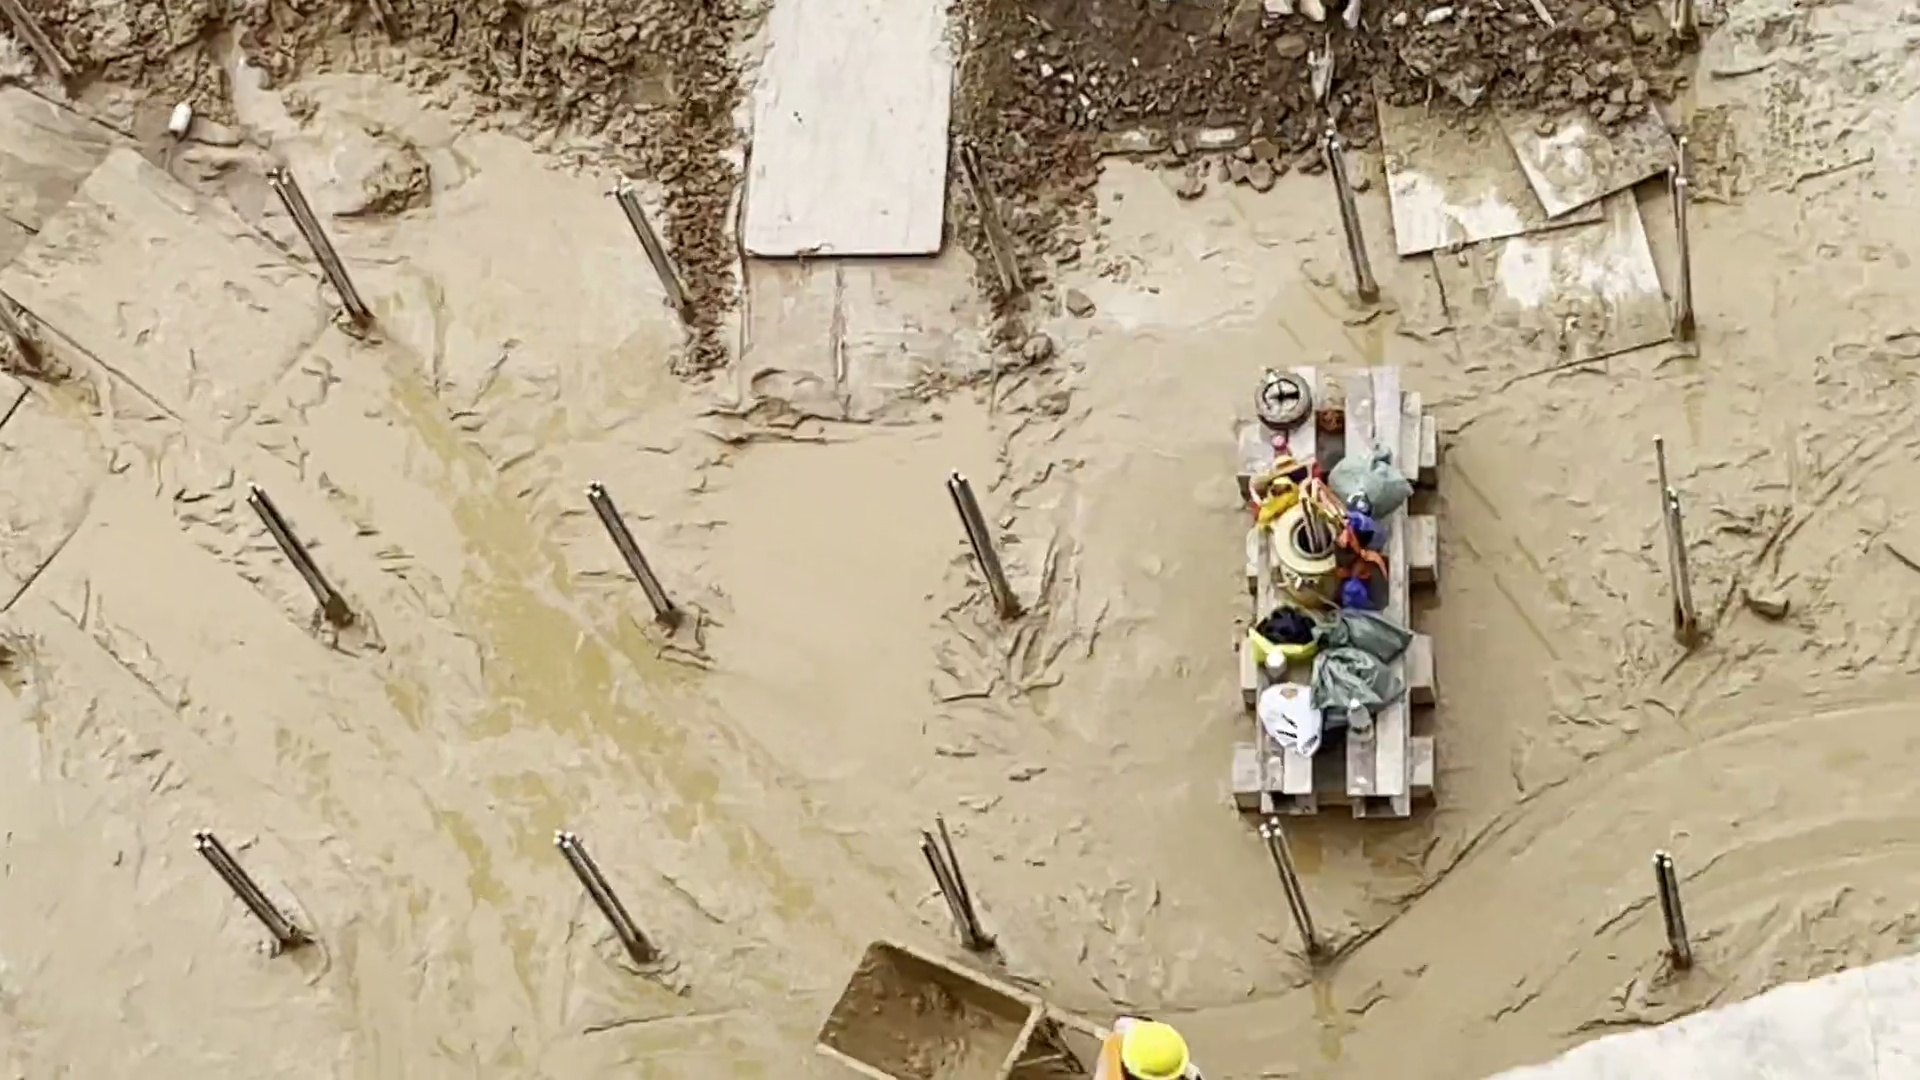helmet: (1104, 1015, 1205, 1077)
